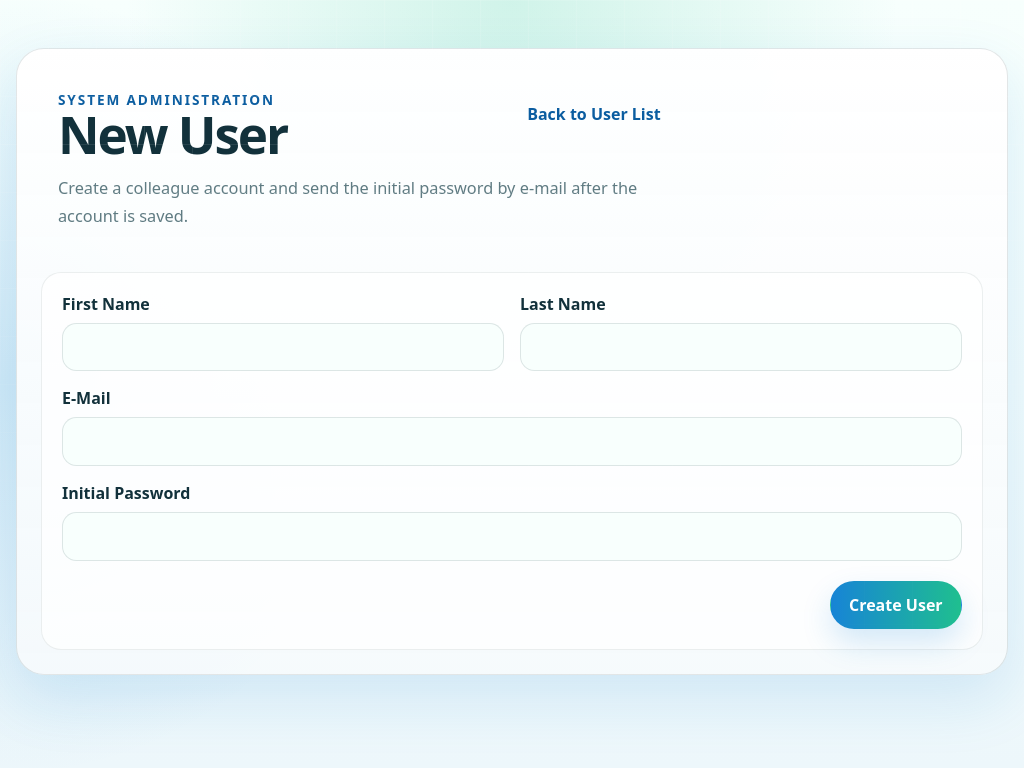
Test: NewUserPage › keeps entered values on unexpected errors
Expected: the button "Create User" is shown, x1=830 y1=581 x2=962 y2=629
In the field labelled "First Name": coordinates (283, 347) x1=62 y1=322 x2=504 y2=371, type "Cora"
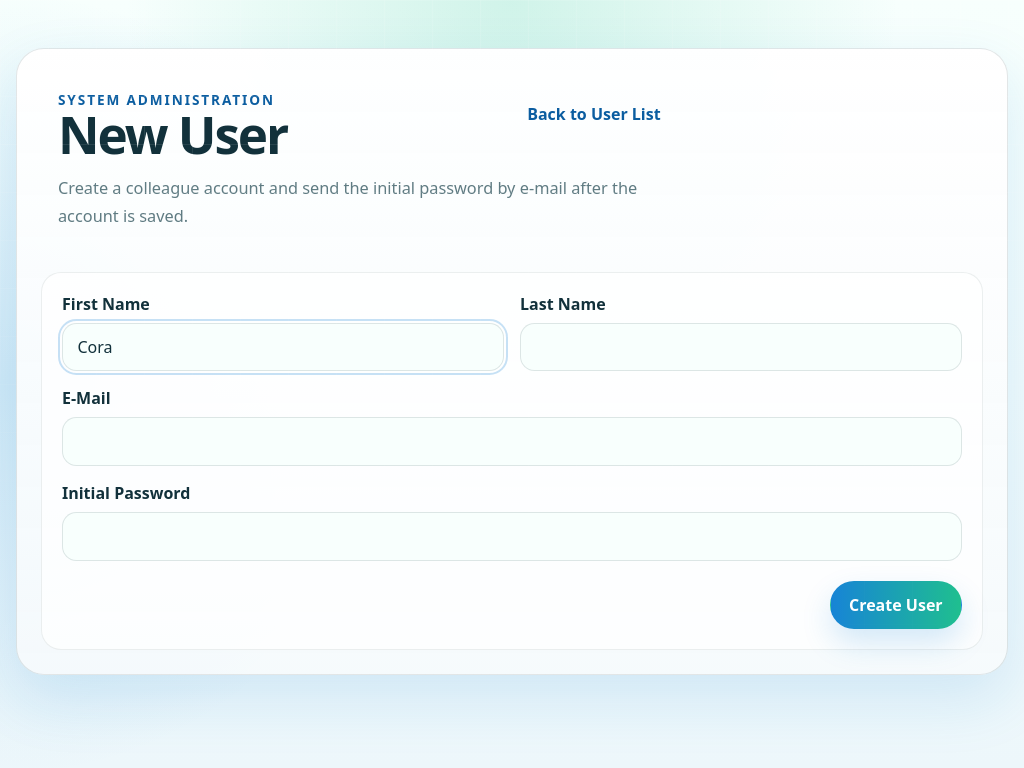
In the field labelled "Last Name": coordinates (741, 347) x1=520 y1=322 x2=962 y2=371, type "Colleague"
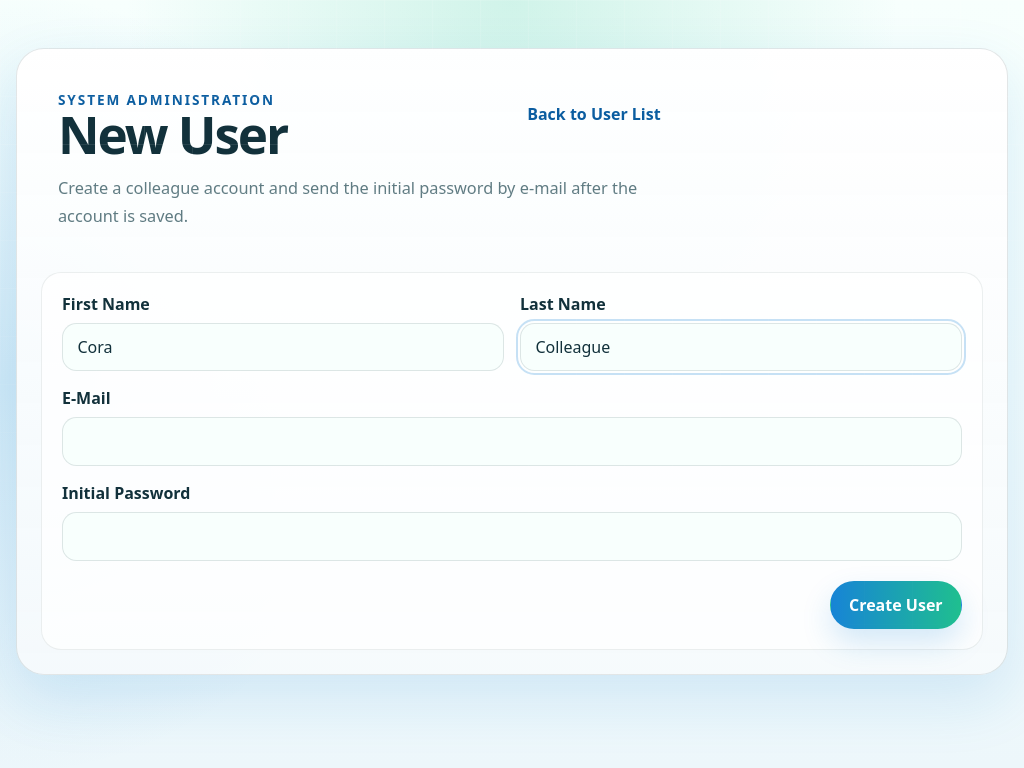
In the field labelled "E-Mail": coordinates (512, 442) x1=62 y1=418 x2=962 y2=466, type "colleague@example.com"
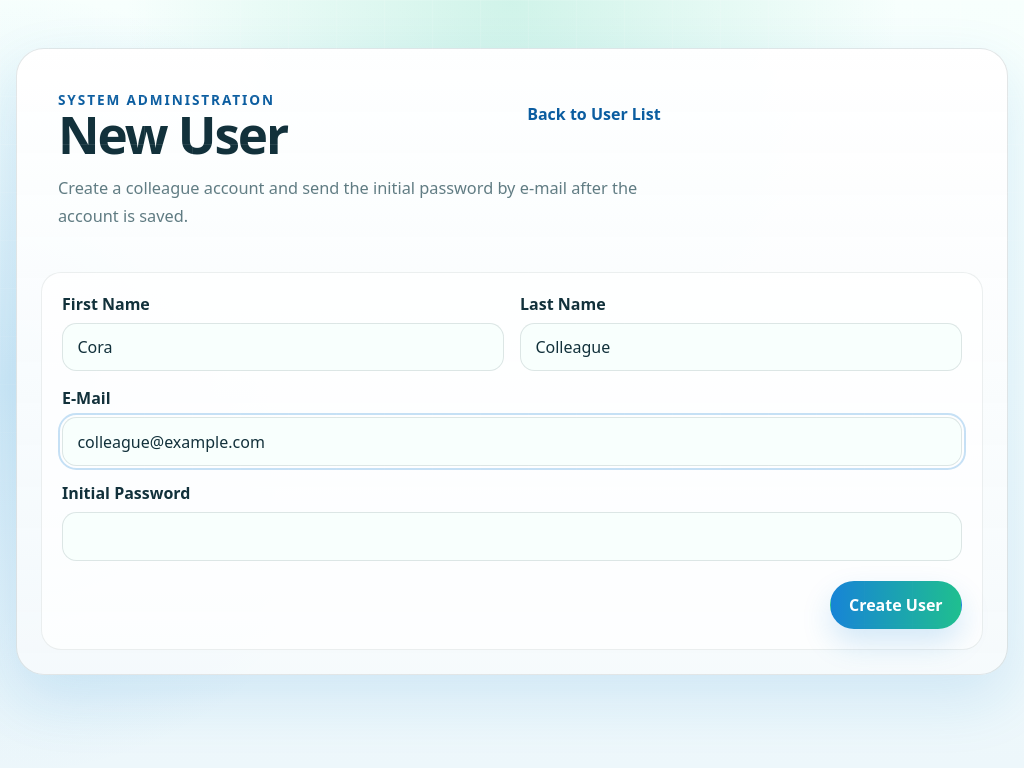
In the password field labelled "Initial Password": coordinates (512, 537) x1=62 y1=512 x2=962 y2=561, type "Start123!"
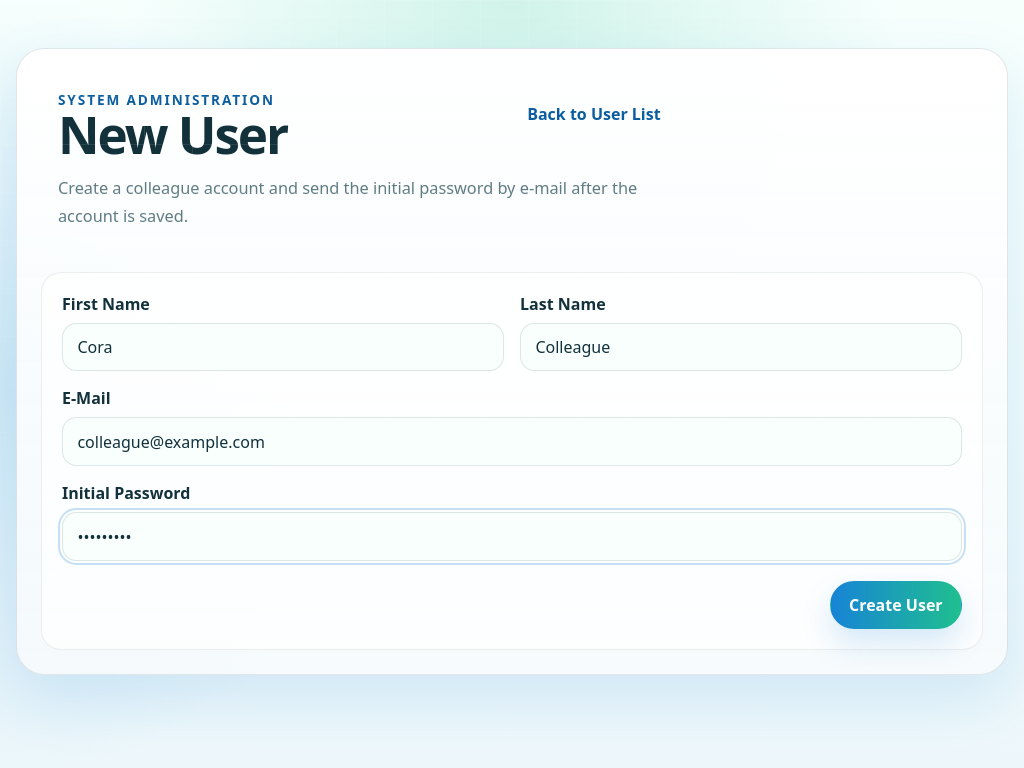
Click the button "Create User": coordinates (896, 605) x1=830 y1=581 x2=962 y2=629
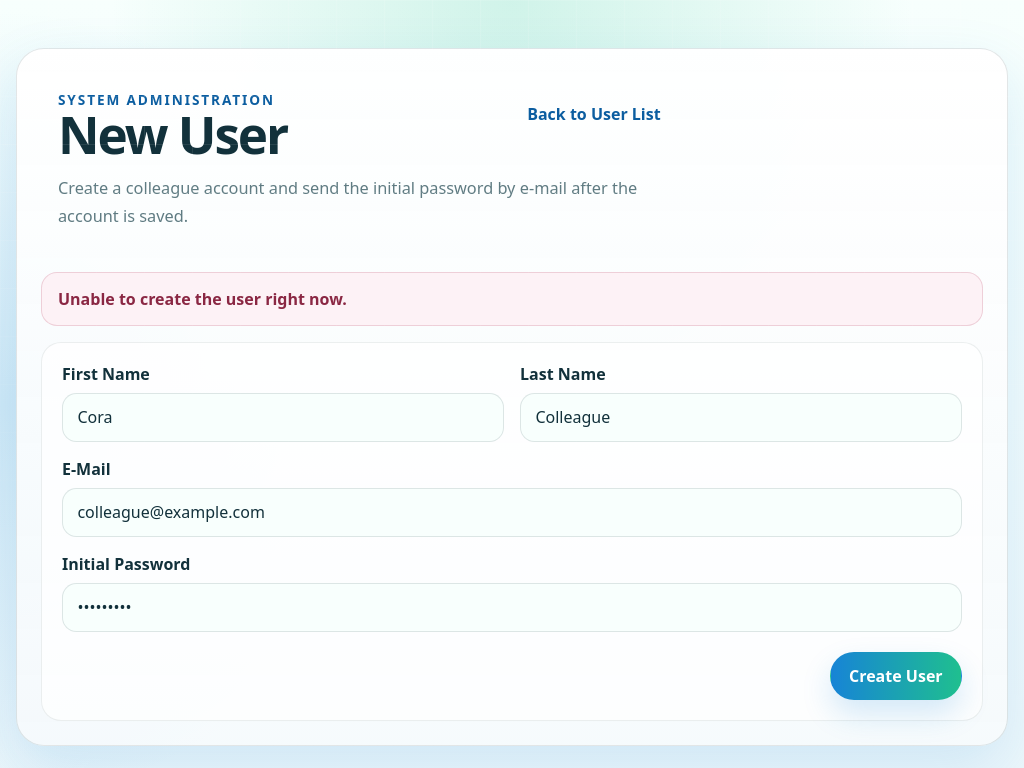
Expected: the message shows "Unable to create the user right now", x1=58 y1=288 x2=347 y2=310
